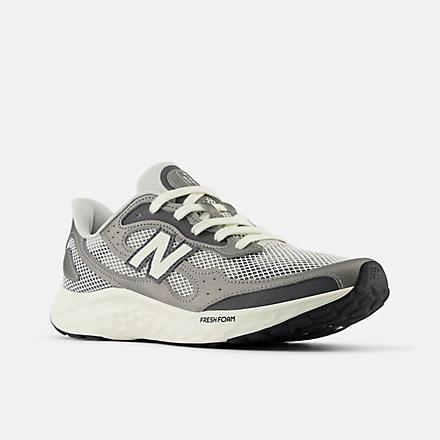NB logo: (121, 219, 208, 290)
